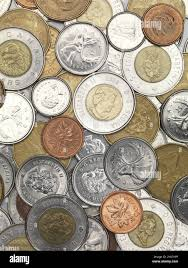coin: (73, 72, 134, 133), (26, 195, 87, 250), (123, 41, 183, 96), (116, 198, 175, 250), (104, 137, 156, 190), (56, 23, 108, 74), (0, 28, 43, 89), (105, 95, 159, 143), (15, 156, 66, 205), (147, 144, 187, 202), (72, 154, 117, 205), (0, 8, 49, 50), (0, 91, 34, 143), (100, 191, 142, 233), (42, 117, 82, 158), (143, 4, 183, 45), (32, 77, 71, 116), (107, 12, 144, 51), (35, 0, 90, 21), (79, 218, 108, 250)
